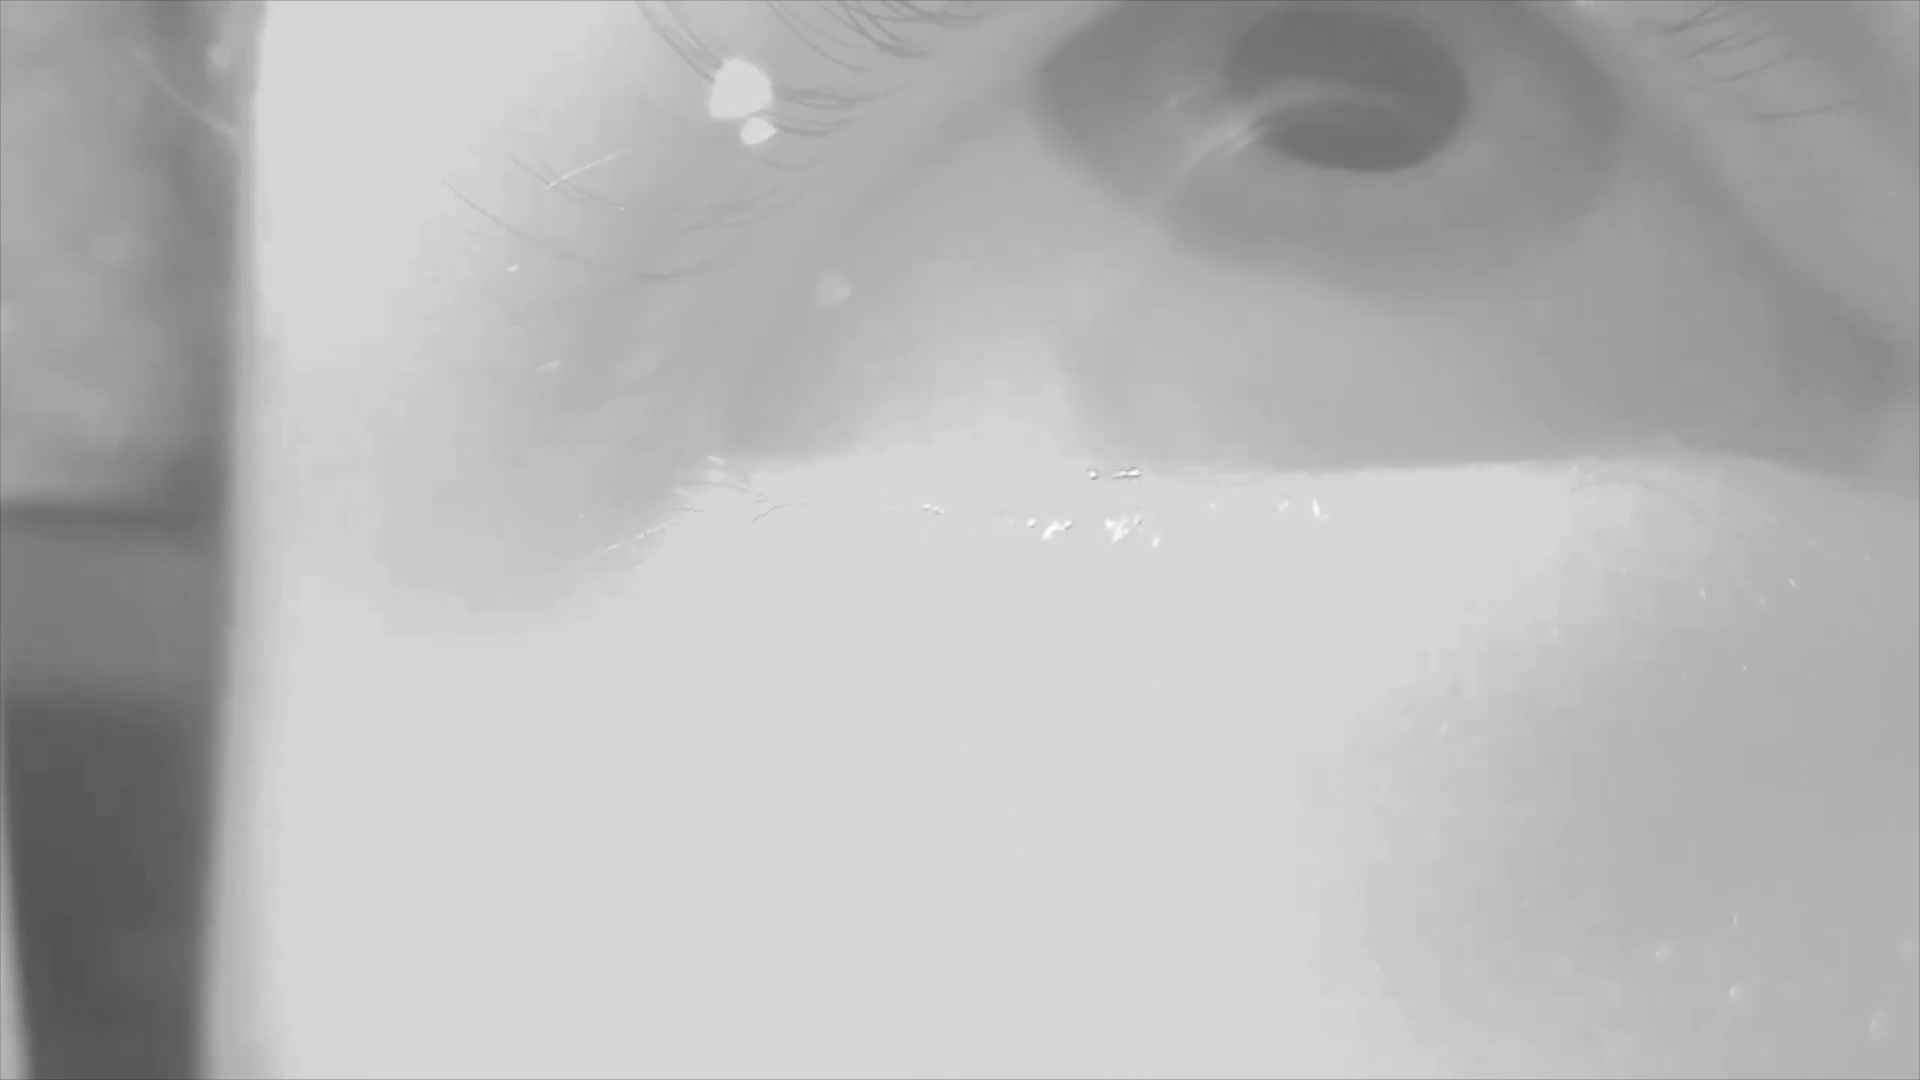pupil: (1231, 6, 1464, 170)
